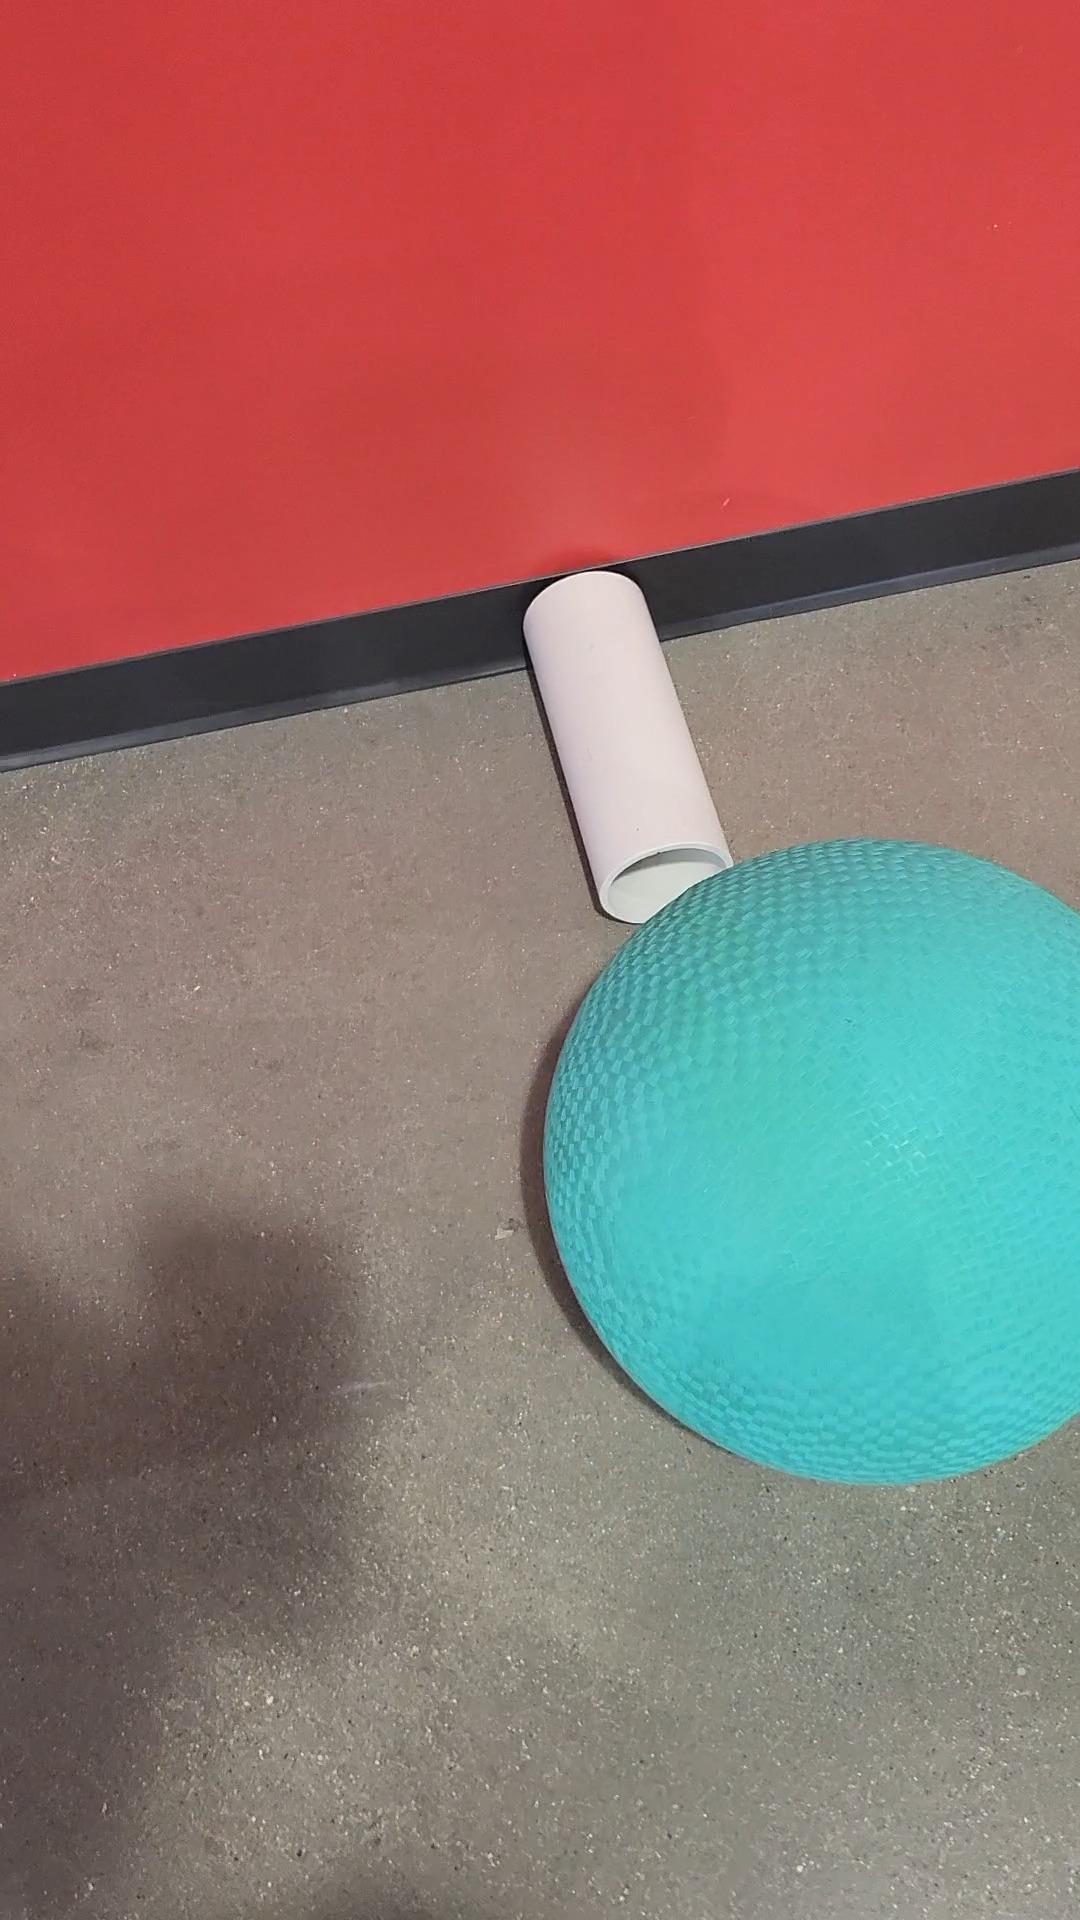algae: (533, 833, 1080, 1491)
coral: (517, 564, 733, 932)
